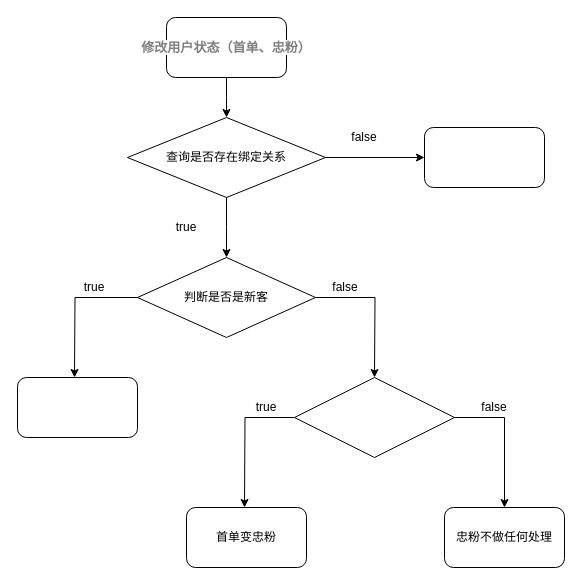
Image size: 582x585. Some labels were removed from this diagram. Each missing label, with the centre of its shape:
判断是否是首单: point 374,417
新客变首单: point 77,407
返回: point 484,157
